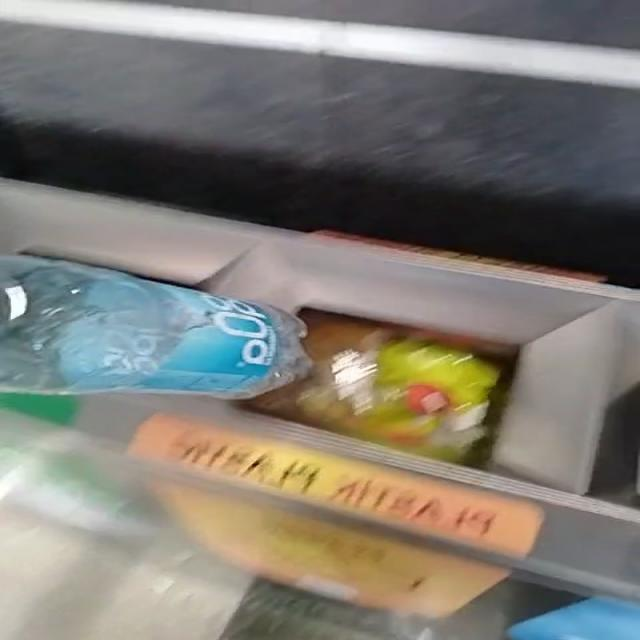Plastic: (0, 255, 311, 400)
